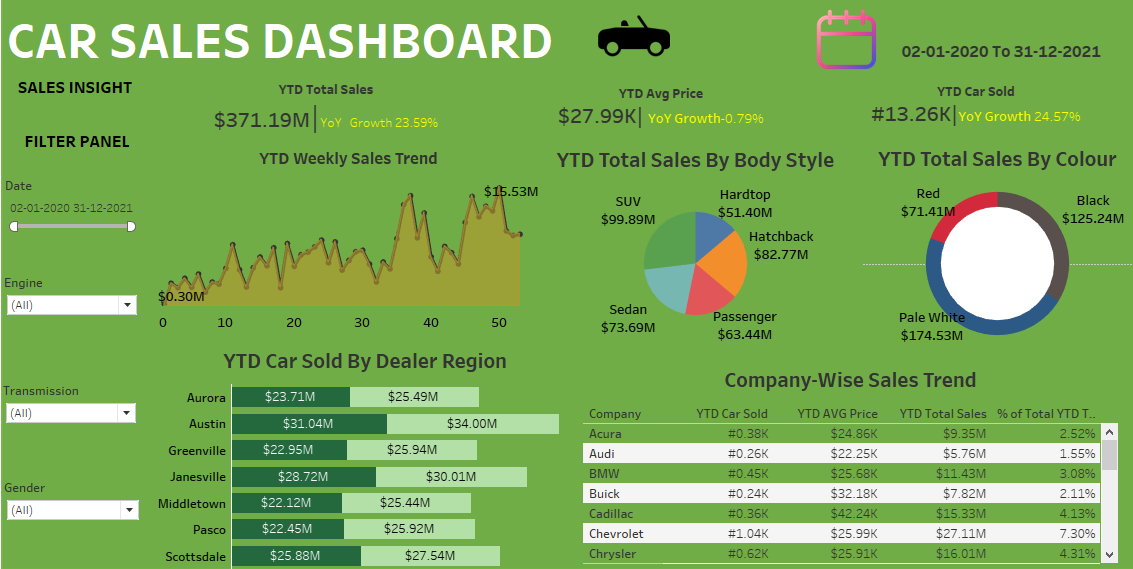

This screenshot's page, from the dashboard's own definition file:
{"tool":"tableau","page":{"name":"Car Sales Dashboard","canvas":[1150,580],"ordinal":0},"visuals":[{"type":"image","param":"Image/Slide1.JPG","box":[0,0,1150,580]},{"type":"image","param":"Image/icons8-car-100.png","box":[605,6,100,72]},{"type":"image","param":"Image/calendar.png","box":[820,12,80,66]},{"type":"text","box":[11,14,1119,61]},{"type":"worksheet","title":"Date Range","mark":"Automatic","box":[892,34,236,31]},{"type":"text","box":[7,70,150,46]},{"type":"worksheet","title":"YTD Car Sold","mark":"Automatic","box":[845,78,276,66]},{"type":"worksheet","title":"YTD Average Price","mark":"Automatic","box":[552,79,232,68]},{"type":"worksheet","title":"YTD Total Sales","mark":"Automatic","box":[212,86,246,56]},{"type":"text","box":[9,124,150,46]},{"type":"worksheet","title":"YTD Total Sales By Colour","mark":"Pie","rows":["Calculation_615022859151601665","Calculation_615022859151642627"],"box":[870,146,269,205]},{"type":"worksheet","title":"YTD Total Sales By Body Style","mark":"Pie","box":[551,147,303,203]},{"type":"worksheet","title":"YTD Weekly Sales Trend","mark":"Area","rows":["Calculation_653584930435129344","Calculation_653584930435129344"],"cols":["Date"],"box":[164,149,383,193]},{"type":"filter","title":"YTD Weekly Sales Trend","param":"[federated.0q8ci991h4ksj515qt7a51rbhx2i].[none:Date:qk]","box":[12,183,135,61]},{"type":"filter","title":"YTD Weekly Sales Trend","param":"[federated.0q8ci991h4ksj515qt7a51rbhx2i].[none:Engine:nk]","box":[11,280,136,53]},{"type":"worksheet","title":" YTD Car Sold By Dealer Region","mark":"Automatic","rows":["Dealer_Region"],"cols":["Calculation_653584930435129344"],"box":[158,348,424,227]},{"type":"worksheet","title":"Company-Wise Sales Trend","mark":"Automatic","rows":["Company"],"box":[590,367,535,203]},{"type":"filter","title":"YTD Weekly Sales Trend","param":"[federated.0q8ci991h4ksj515qt7a51rbhx2i].[none:Transmission:nk]","box":[10,388,136,57]},{"type":"filter","title":"YTD Weekly Sales Trend","param":"[federated.0q8ci991h4ksj515qt7a51rbhx2i].[none:Gender:nk]","box":[11,485,138,57]}]}

Visuals, with their boxes in screenshot pixels (x1, y1, x2, y2), scaled from the page's 1150x580 canvas onto the 1133x569 screenshot:
image: locate(0, 0, 1132, 568)
image: locate(596, 6, 695, 77)
image: locate(808, 12, 887, 77)
text: locate(11, 14, 1113, 74)
"Date Range" worksheet: locate(879, 33, 1111, 64)
text: locate(7, 69, 155, 114)
"YTD Car Sold" worksheet: locate(833, 77, 1104, 141)
"YTD Average Price" worksheet: locate(544, 78, 772, 144)
"YTD Total Sales" worksheet: locate(209, 84, 451, 139)
text: locate(9, 122, 157, 167)
"YTD Total Sales By Colour" worksheet (Pie marks): locate(857, 143, 1122, 344)
"YTD Total Sales By Body Style" worksheet (Pie marks): locate(543, 144, 841, 343)
"YTD Weekly Sales Trend" worksheet (Area marks): locate(162, 146, 539, 336)
"YTD Weekly Sales Trend" filter: locate(12, 180, 145, 239)
"YTD Weekly Sales Trend" filter: locate(11, 275, 145, 327)
" YTD Car Sold By Dealer Region" worksheet: locate(156, 341, 573, 564)
"Company-Wise Sales Trend" worksheet: locate(581, 360, 1108, 559)
"YTD Weekly Sales Trend" filter: locate(10, 381, 144, 437)
"YTD Weekly Sales Trend" filter: locate(11, 476, 147, 532)
